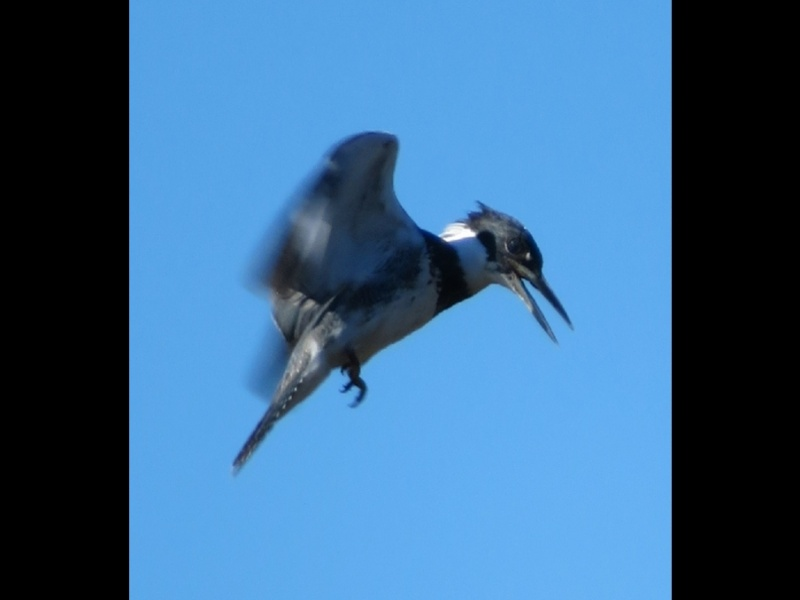kingfisher: (228, 128, 575, 482)
